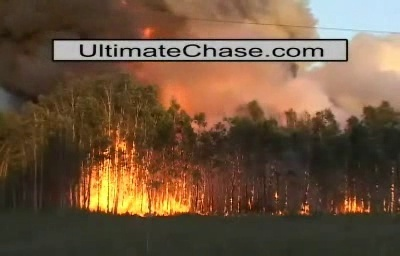fire: (79, 128, 204, 216)
